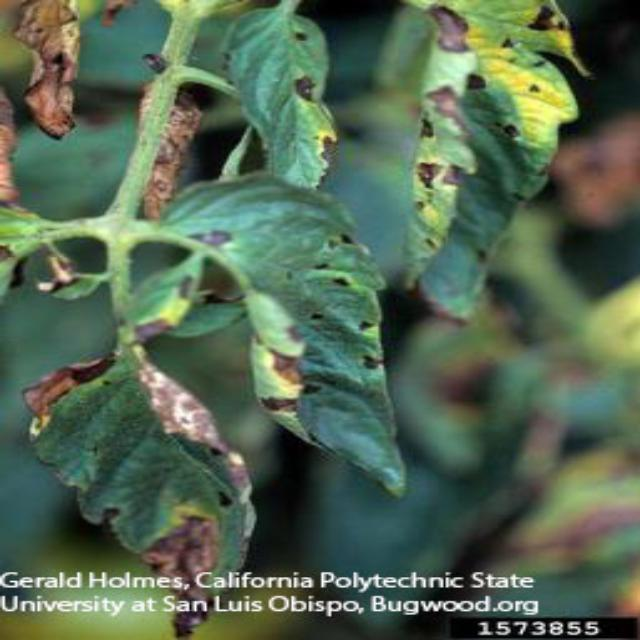Early_blight: (134, 353, 254, 495), (140, 501, 223, 640), (11, 1, 83, 141), (136, 78, 203, 218), (18, 351, 119, 436), (427, 83, 470, 142), (425, 3, 472, 52), (1, 91, 19, 207), (262, 344, 304, 389), (40, 250, 80, 294), (130, 313, 176, 350), (417, 157, 464, 189), (527, 2, 570, 35), (316, 134, 337, 193), (261, 391, 303, 418), (186, 228, 234, 250), (99, 1, 139, 26), (468, 69, 487, 90), (503, 120, 521, 136)
